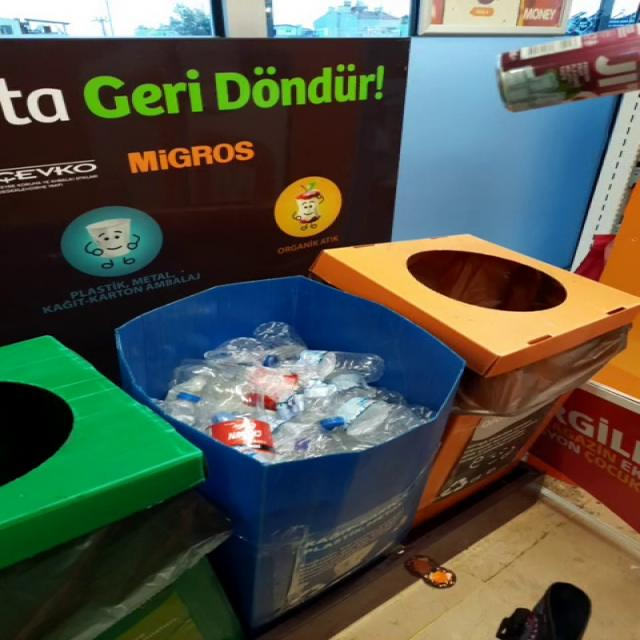bin: (115, 276, 467, 630), (313, 235, 640, 376)
metal: (500, 26, 640, 111), (574, 52, 589, 61)
